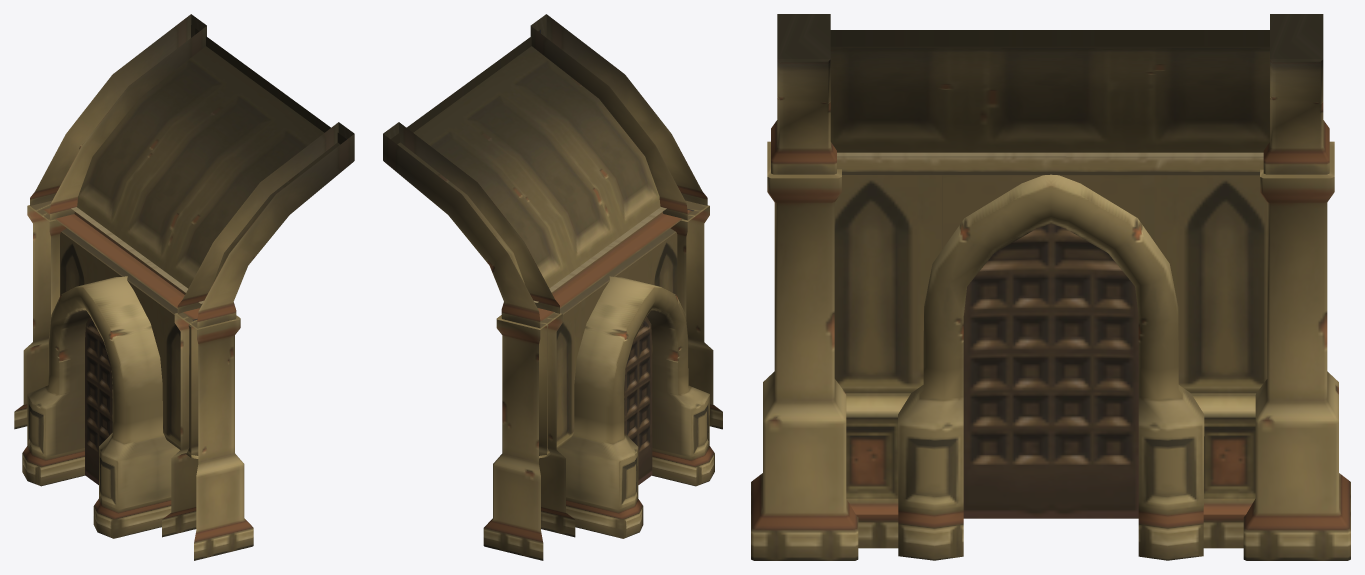
The model's file is wall1-door.FBX.
3 views of the same model, side by side, from view 1: azimuth 30°, elevation 25°; view 2: azimuth 150°, elevation 25°; view 3: azimuth 270°, elevation 25° (orthographic). The views are drawn at different scales.
Visible parts, largest first — view 1: wall1-door; view 2: wall1-door; view 3: wall1-door.
Part boxes in pixels (<box>): wall1-door: <box>14,14,354,560</box>; wall1-door: <box>383,14,722,560</box>; wall1-door: <box>751,14,1350,560</box>.
Size of the model in its own units: 397 by 689 by 588.
